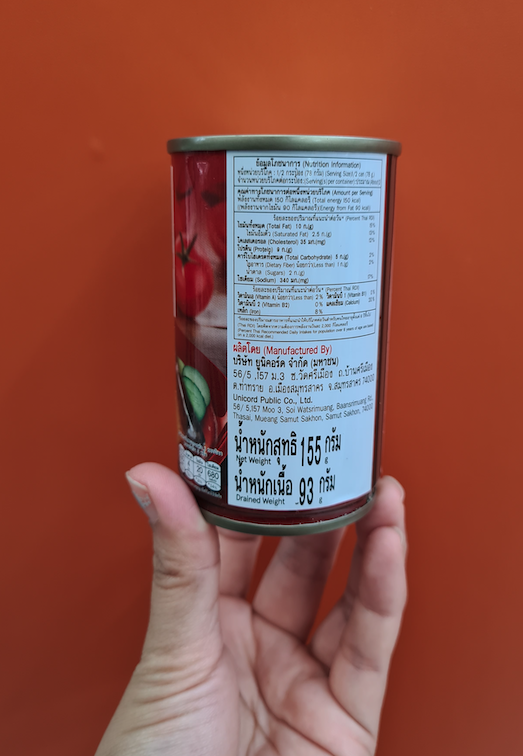Canned_Sardines_and_Mackerel: (173, 145, 380, 508)
